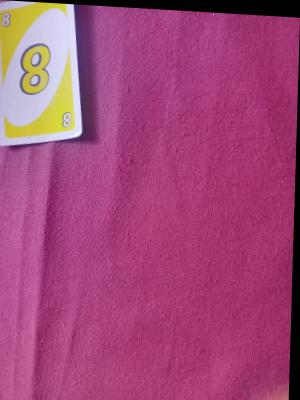num_8: (7, 32, 63, 109)
